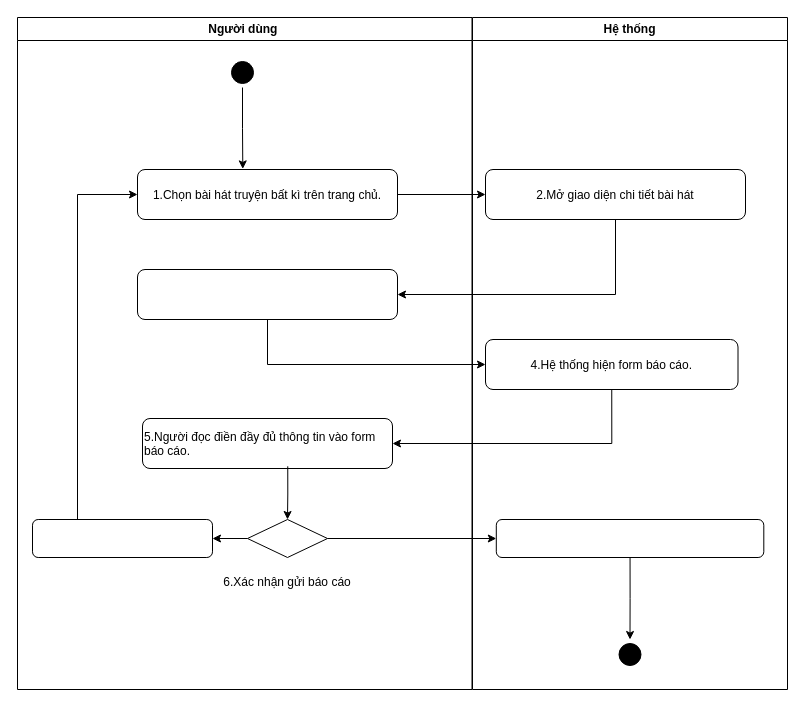
Some shapes in this 805 by 707 pixel diagram are drawn without their labels. Here are the shapes that lost their labels. From the top down, the centre of each, then its label:
point (267, 294): 3.Chọn "báo cáo" ở giao diện chi tiết bài hát.
point (122, 538): 6.1 Chọn huỷ trên form báo cáo
point (629, 538): 7.Hệ thống tiếp nhận báo cáo người dùng và đưa vào hàng chờ xử lý.
